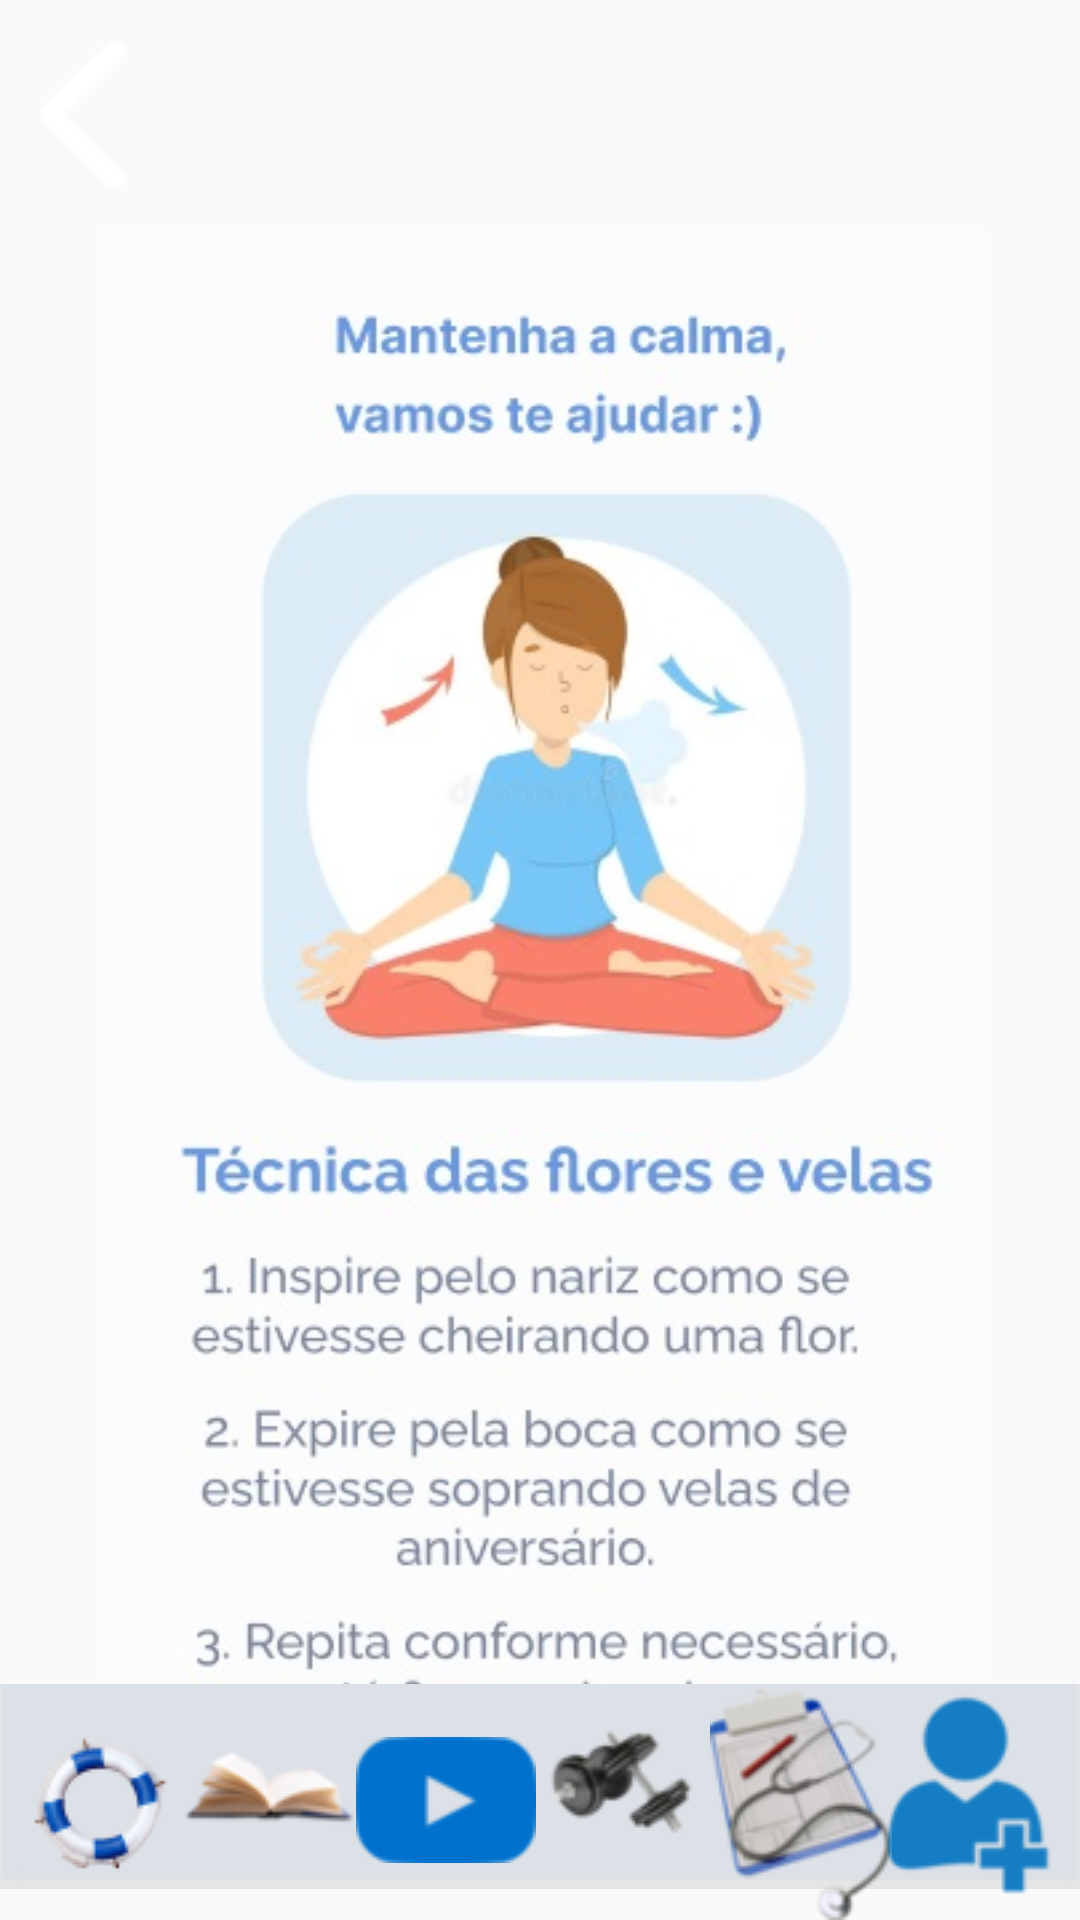

Point at icon controls on the screen. Image size 1080*1920, points as point (x, y).
ajudabotao: point (100, 1803)
iconecadastromenu: point (972, 1796)
iconelivromenu: point (270, 1788)
iconepalylistmenu: point (446, 1800)
iconexerciciosmenu: point (621, 1782)
